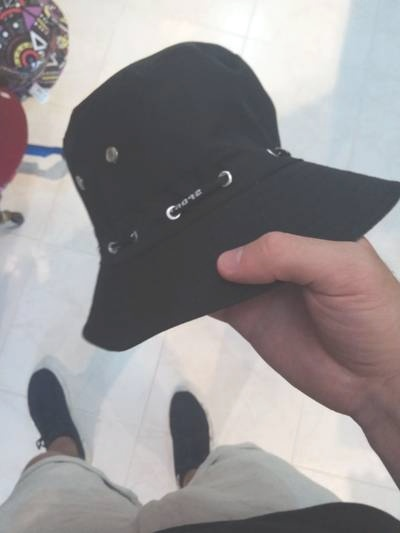Hat: (62, 29, 391, 369)
